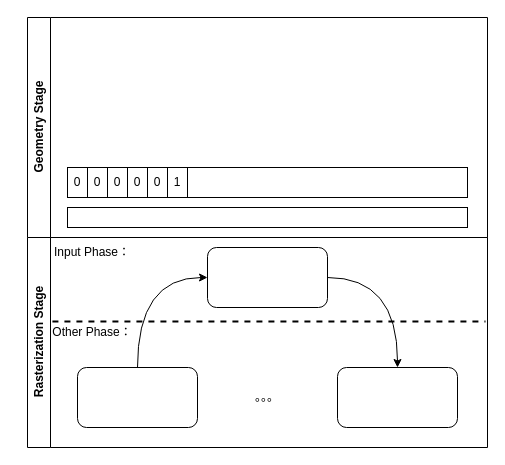
The diagram is 505 pixels wide and 465 high, and some of its shapes have lost their labels. Each missing label, with the centre of its shape:
CUB radix sort[0,parr-prdy]: (267,217)
rasterizer 0: (267,277)
rasterizer 1: (137,397)
rasterizer N: (397,397)
